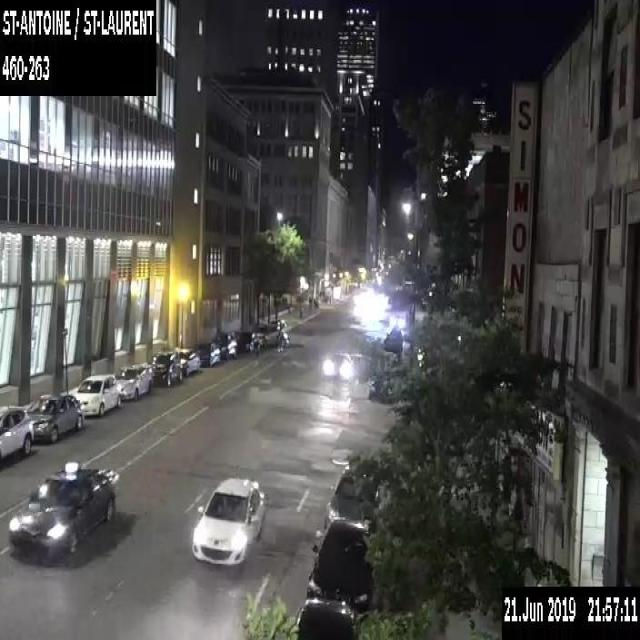cyclist: (276, 328, 286, 350)
pedestrian: (253, 336, 258, 357)
vehicle: (8, 461, 116, 562), (191, 476, 264, 565), (306, 518, 374, 608), (326, 464, 379, 529), (296, 594, 358, 639), (26, 393, 84, 441), (73, 372, 121, 415), (0, 404, 34, 464), (115, 362, 152, 400), (152, 349, 186, 384), (210, 330, 237, 360), (174, 347, 200, 376), (192, 340, 220, 366), (251, 322, 279, 348), (326, 352, 352, 378), (368, 378, 393, 402), (237, 331, 256, 352), (384, 328, 402, 350)
